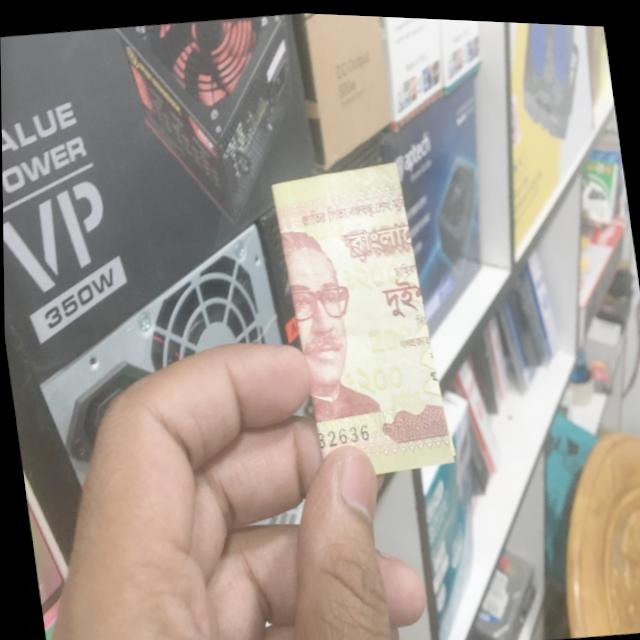Taka: (270, 159, 451, 468)
